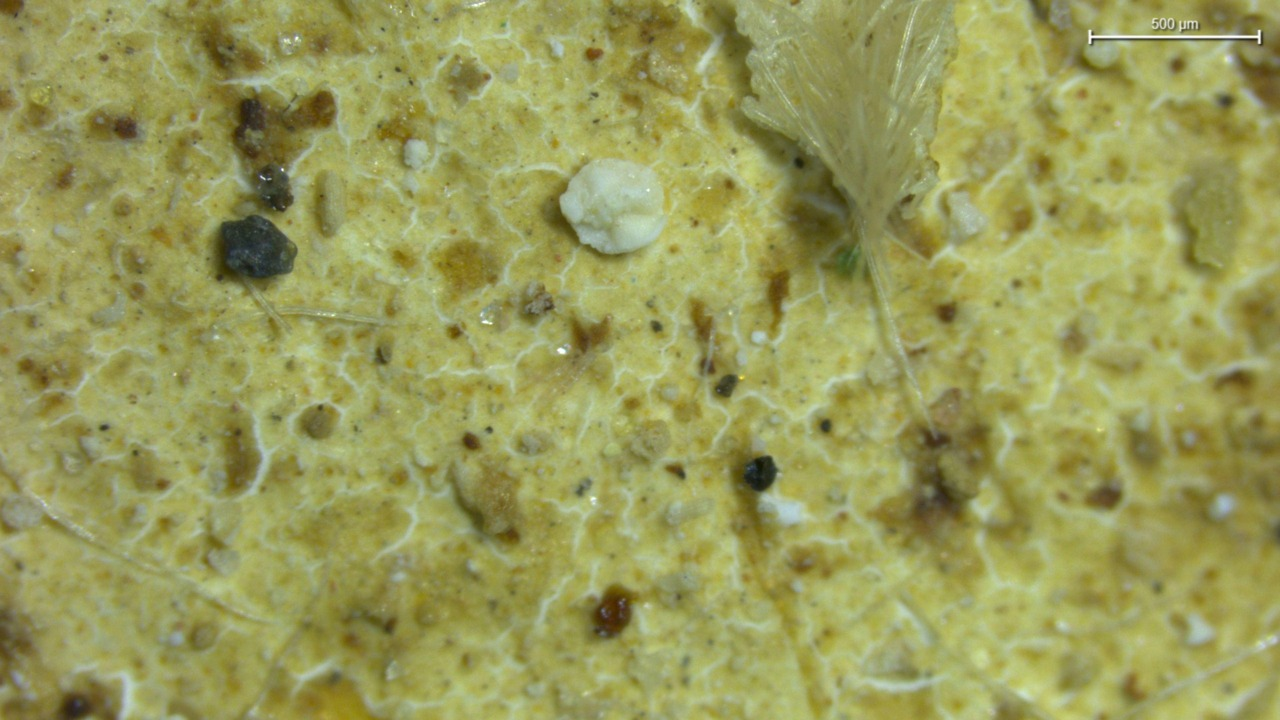microplastic_fragment: (559, 158, 666, 254), (1173, 159, 1241, 268), (449, 456, 523, 541), (220, 215, 297, 278)
